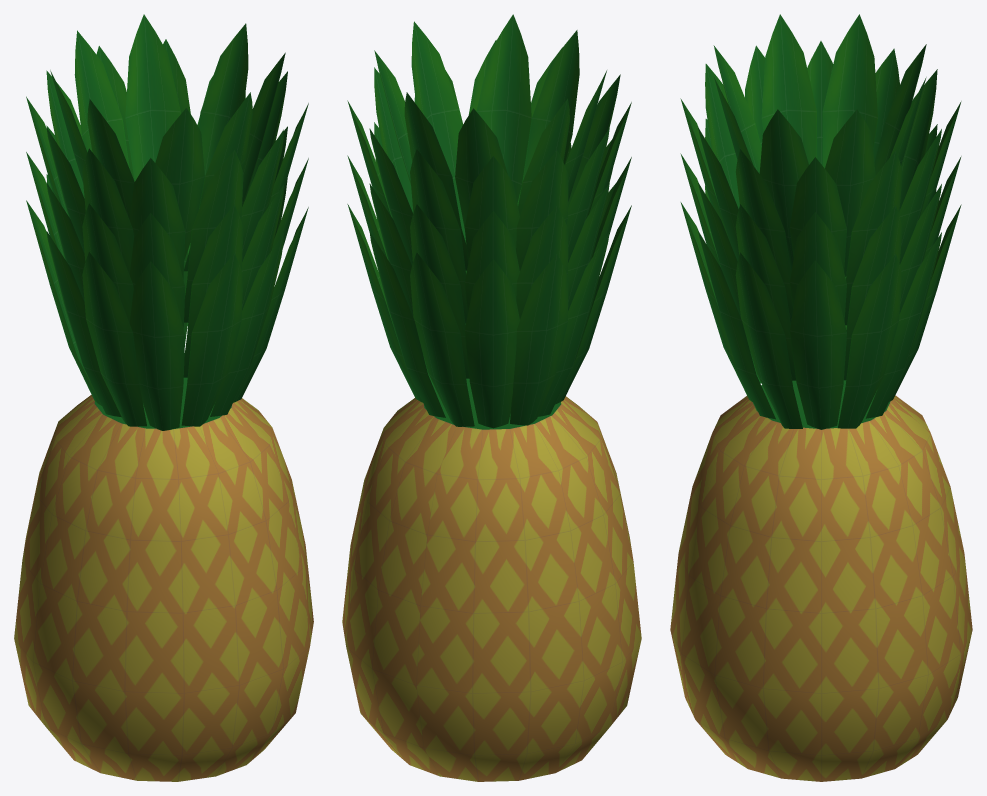
The model's file is pinapple_02.FBX.
3 renders of one model, left to right at view 1: azimuth 30°, elevation 25°; view 2: azimuth 150°, elevation 25°; view 3: azimuth 270°, elevation 25°, orthographic.
Parts seen in each view (by area): view 1: Cylinder001; view 2: Cylinder001; view 3: Cylinder001.
Boxes of the visible parts, left/top/right/bottom form: Cylinder001: left=14, top=14, right=313, bottom=781; Cylinder001: left=342, top=14, right=641, bottom=781; Cylinder001: left=670, top=14, right=972, bottom=781.
Size of the model in its own units: 41.34 by 41.34 by 106.
Materials: 1 (1 with a texture image).
